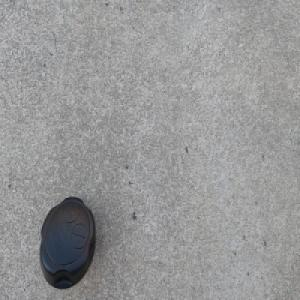FuelCap: (39, 195, 96, 290)
